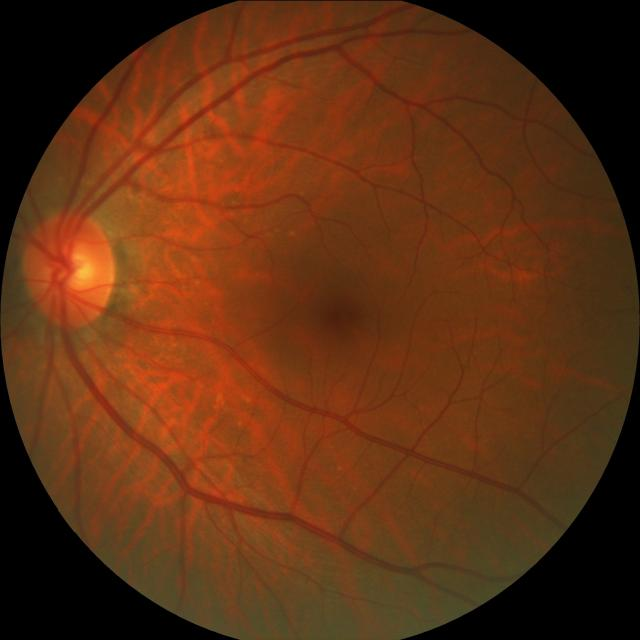OC: (44, 242, 95, 294)
OD: (24, 208, 118, 326)
